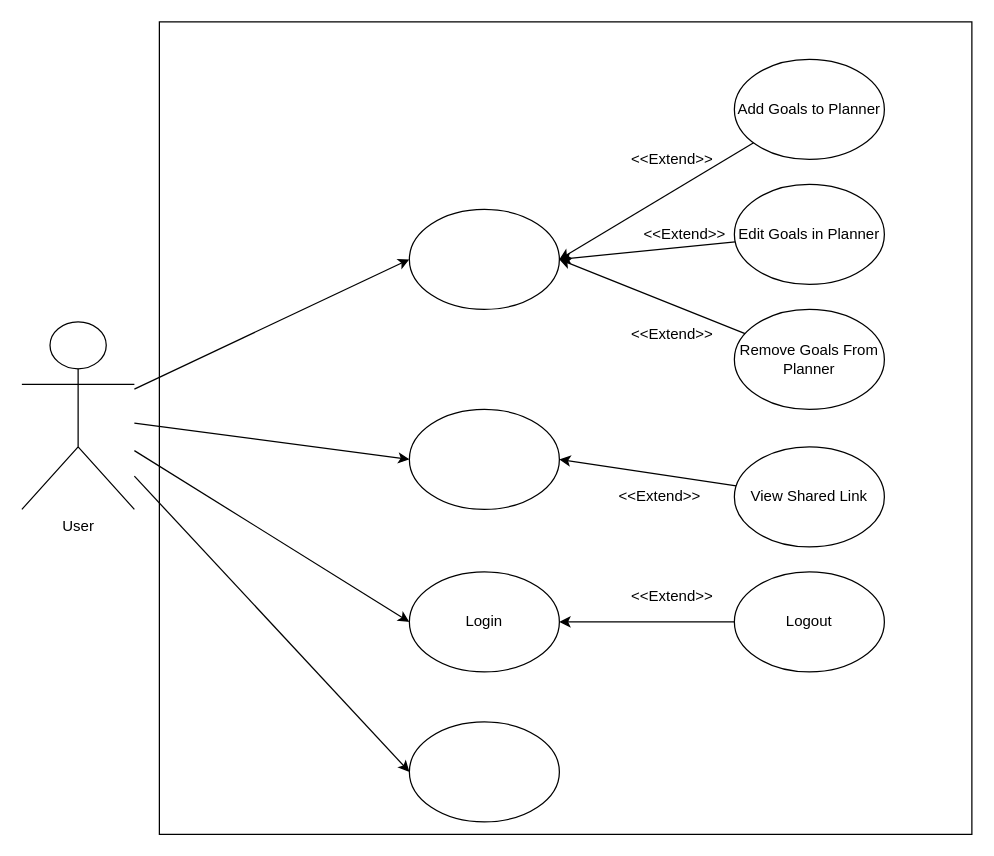
This 994x856 diagram has some shape labels left out. The shapes that lost their labels are listed below. From the top down, each one's box as (x1, y1, x2, y2) in pixels, then its label:
(408, 208, 559, 309): Create Planner
(408, 408, 559, 509): Share Planner
(408, 721, 559, 822): Register
